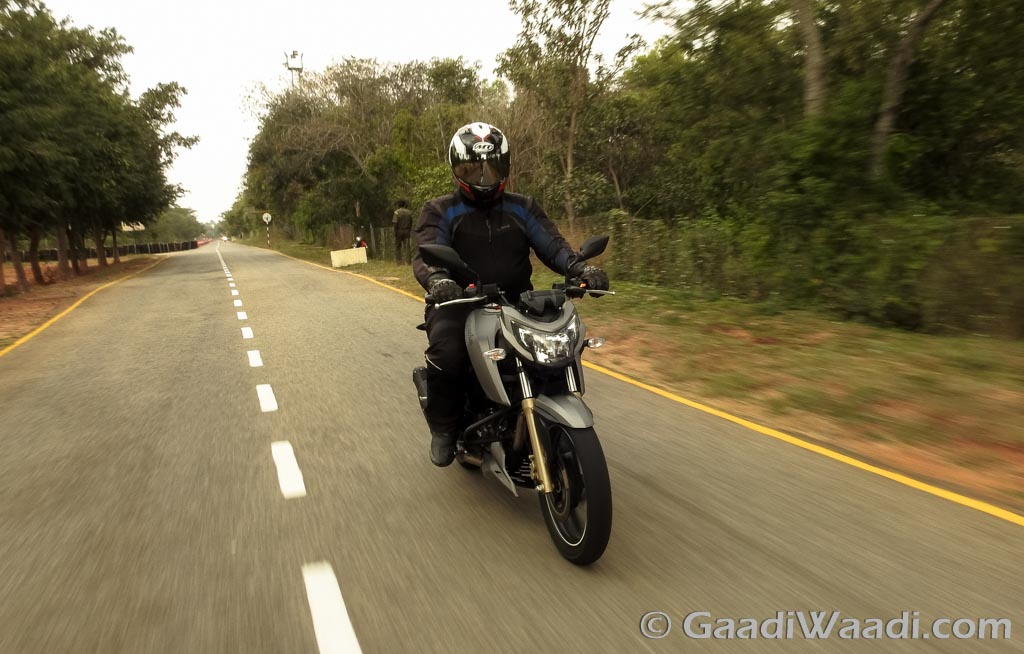helmet: (444, 123, 525, 205)
